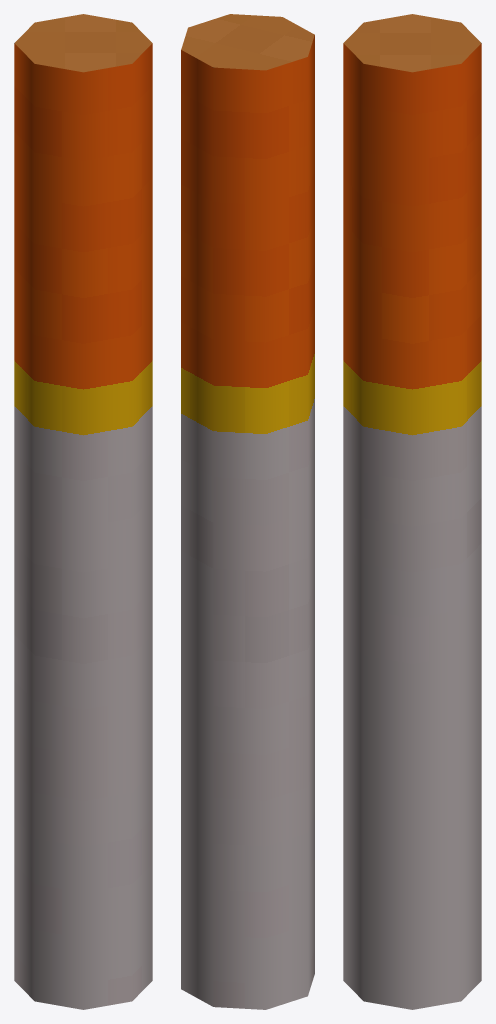
File: ciggarete.obj
The picture shows the model from 3 angles, left to right: view 1: azimuth 90°, elevation 25°; view 2: azimuth 150°, elevation 25°; view 3: azimuth 270°, elevation 25°; orthographic projection.
Visible parts, largest first — view 1: ciggarete; view 2: ciggarete; view 3: ciggarete.
Boxes of the visible parts, x1,y1,x2,y2 form: ciggarete: [14, 14, 152, 1009]; ciggarete: [181, 14, 314, 1009]; ciggarete: [343, 14, 481, 1009].
Size of the model in its own units: 0.0327 by 0.245 by 0.0327.
